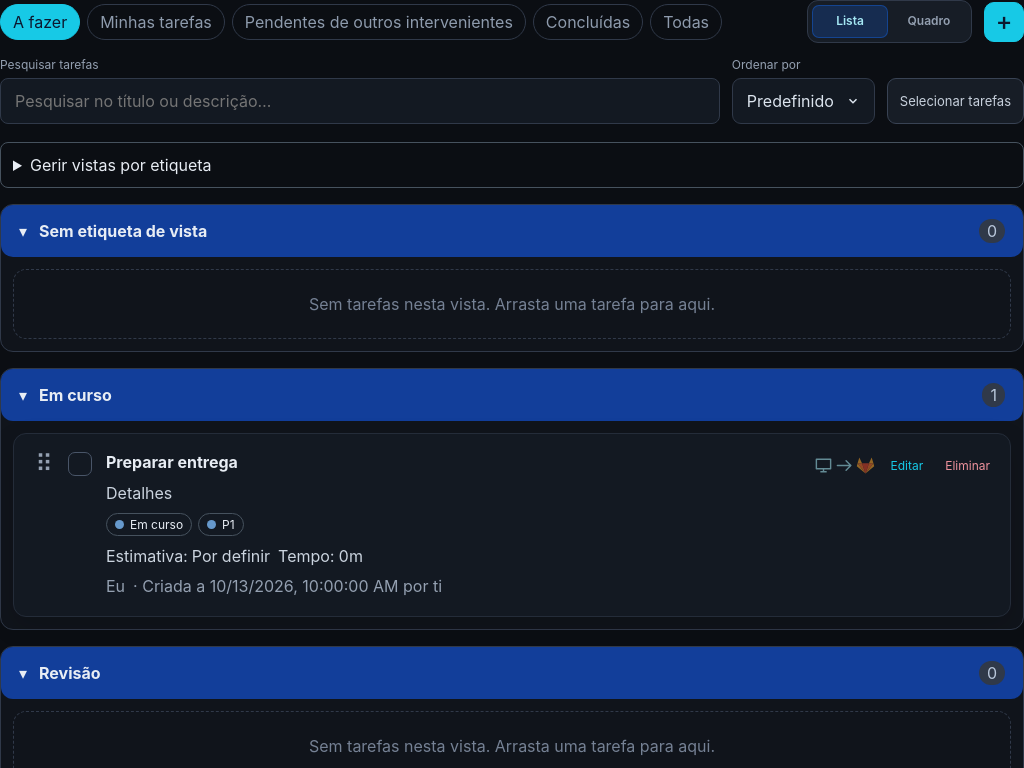
task interface › opens creation only from the plus button and keeps existing filters
Expected: the element with class "filters" shows "Minhas tarefas", [87, 4, 225, 40]
Click the button named "Adicionar tarefa" at (1004, 22), box [984, 2, 1023, 42]
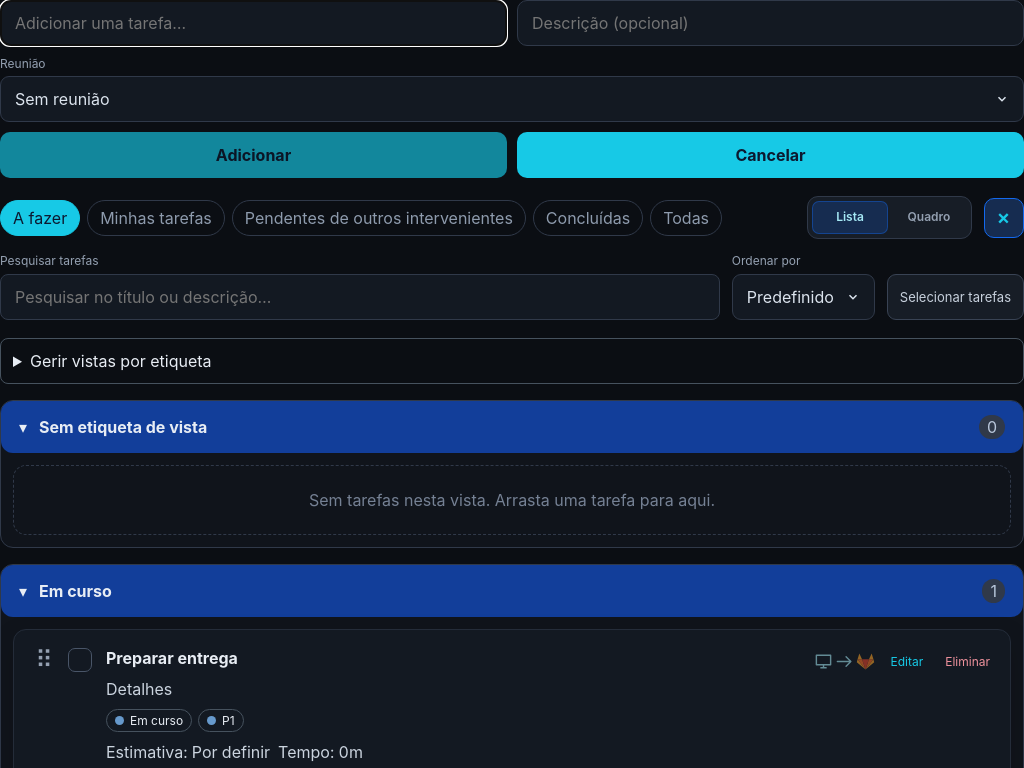
Expected: the button named "Adicionar tarefa" is shown, [984, 198, 1023, 238]
Expected: the form is shown, [0, 0, 1023, 178]
Expected: the button "Cancelar" is shown
Click the button "Cancelar" at (770, 155), box [517, 132, 1023, 178]
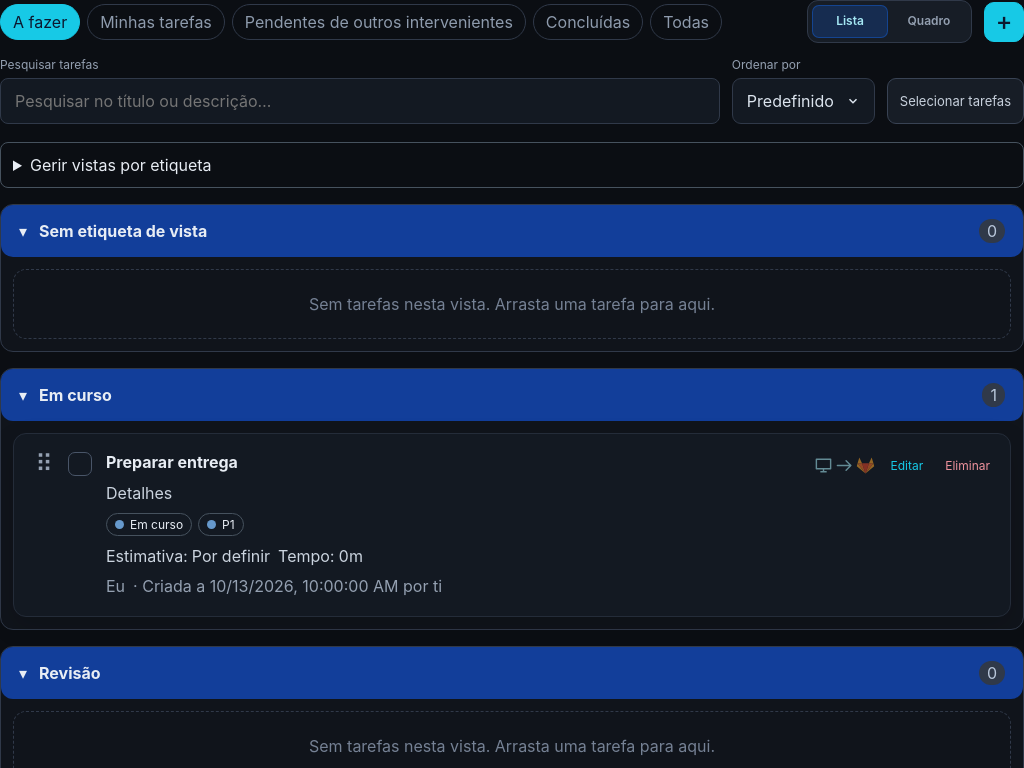
Expected: the form is gone
